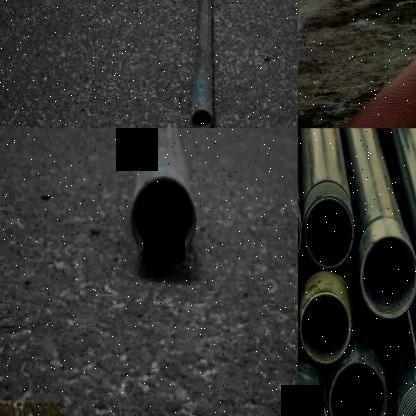pipe: (130, 174, 196, 263), (360, 235, 416, 319), (300, 292, 350, 364), (304, 197, 353, 269), (330, 361, 387, 416), (191, 109, 212, 128)
